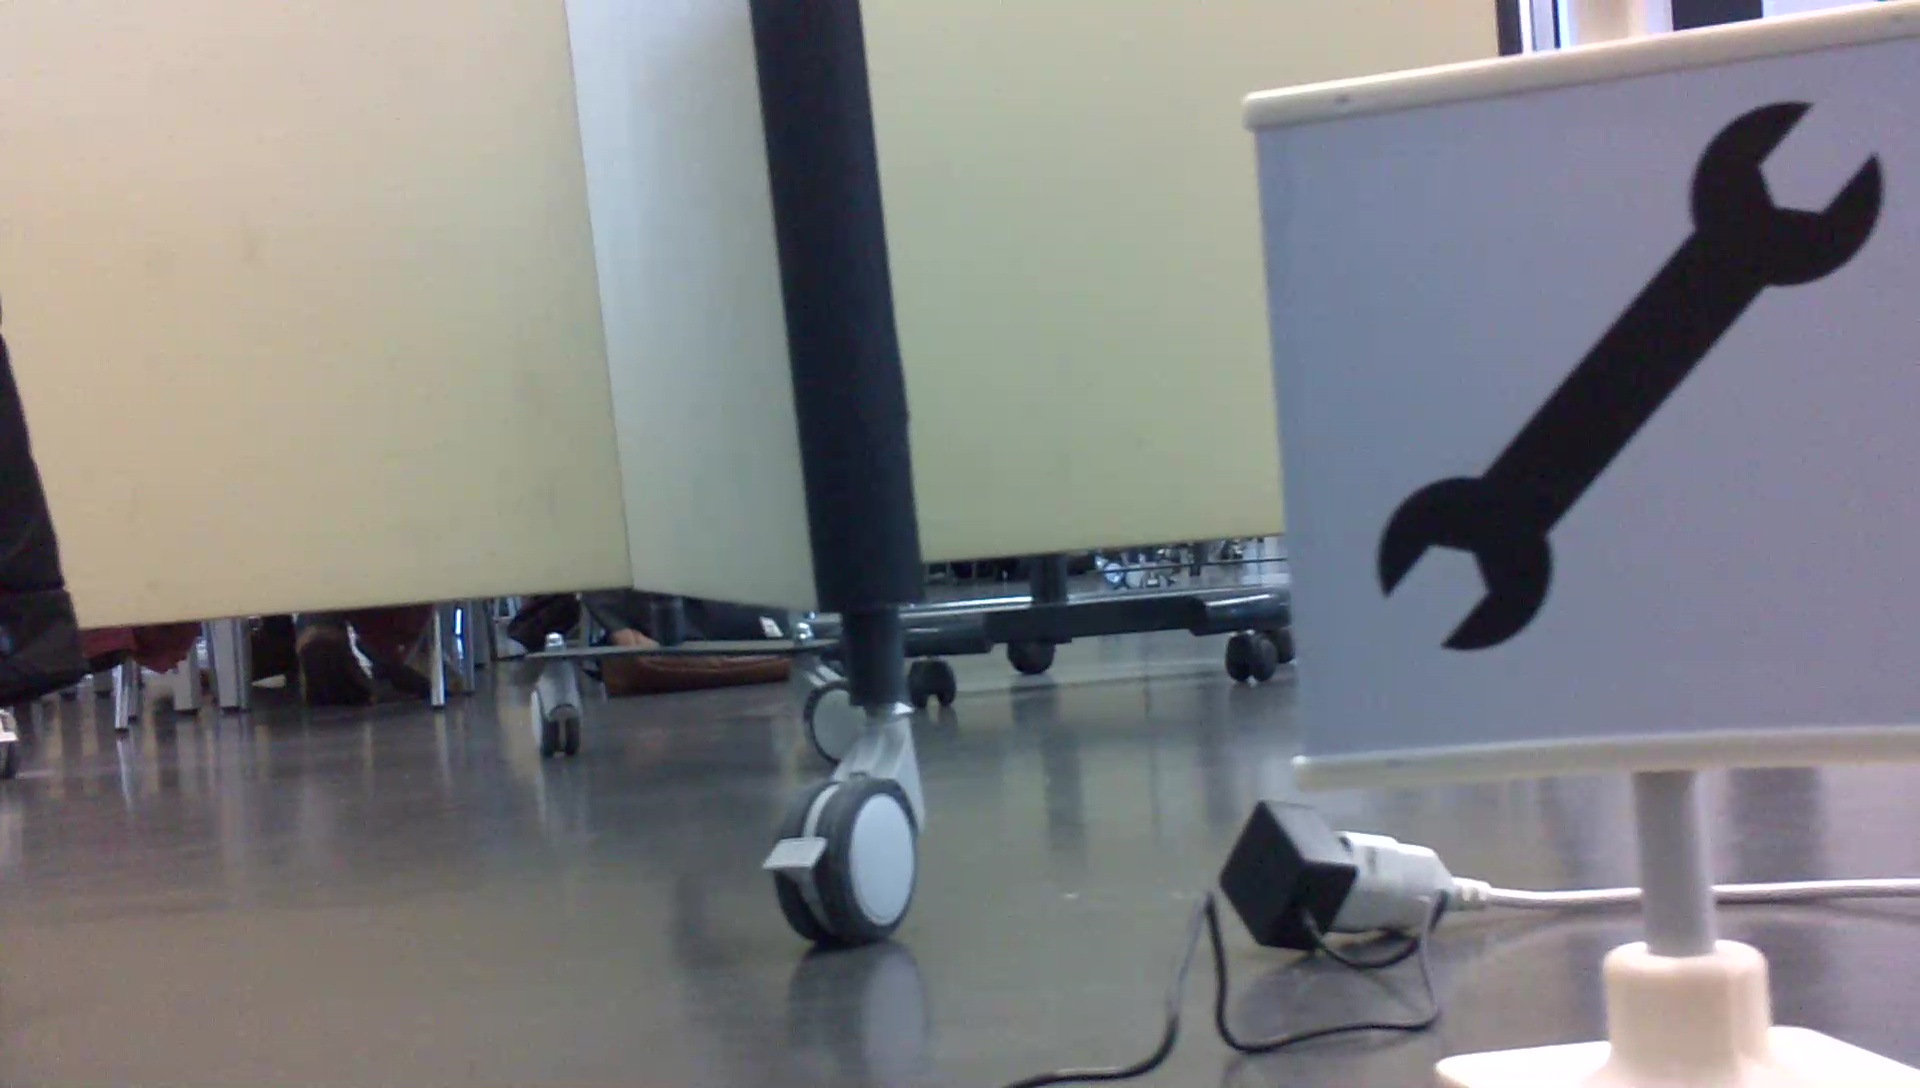wrench: (1365, 95, 1898, 659)
